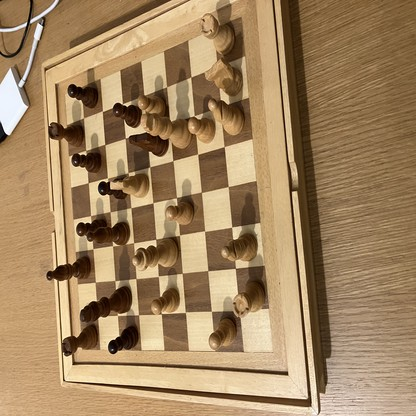bishop_black: (87, 222, 131, 244), (47, 259, 90, 279)
bishop_white: (207, 98, 244, 136), (221, 235, 258, 261)
king_black: (80, 285, 132, 322)
king_white: (141, 113, 192, 150)
knight_black: (129, 134, 169, 155)
knight_white: (205, 59, 242, 97), (110, 173, 149, 198)
pawn_black: (109, 327, 140, 353), (112, 103, 142, 127), (68, 85, 99, 108), (76, 217, 107, 238), (73, 152, 101, 173)
pawn_white: (151, 286, 180, 314), (165, 201, 193, 225), (189, 119, 215, 143), (139, 95, 164, 113)
queen_white: (133, 238, 179, 268)
rock_black: (62, 324, 99, 355), (48, 122, 85, 145)
rock_white: (232, 279, 266, 318), (201, 16, 234, 53), (209, 317, 236, 348)
